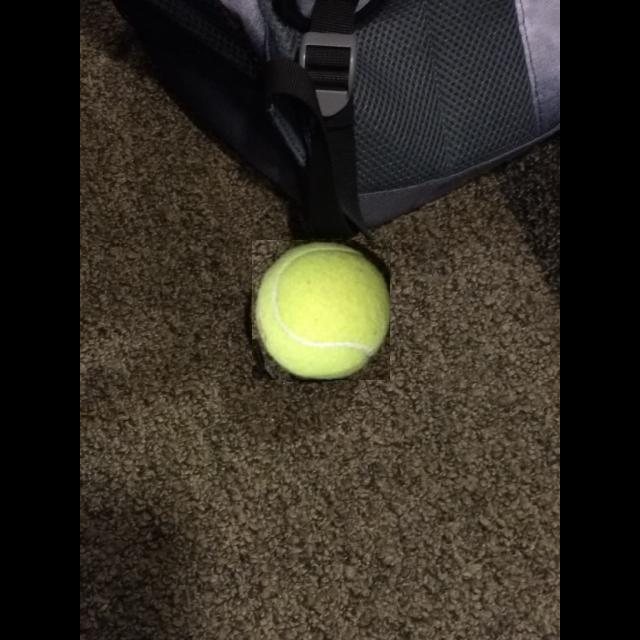tennis ball: (252, 240, 390, 380)
